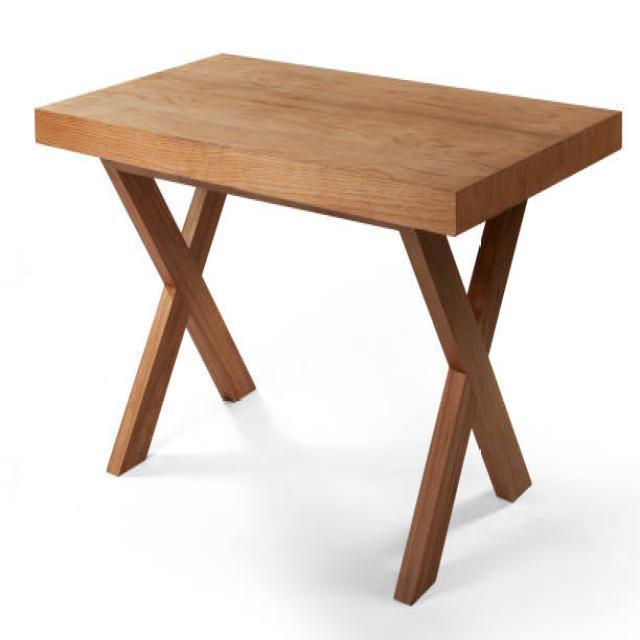table: (33, 50, 622, 606)
